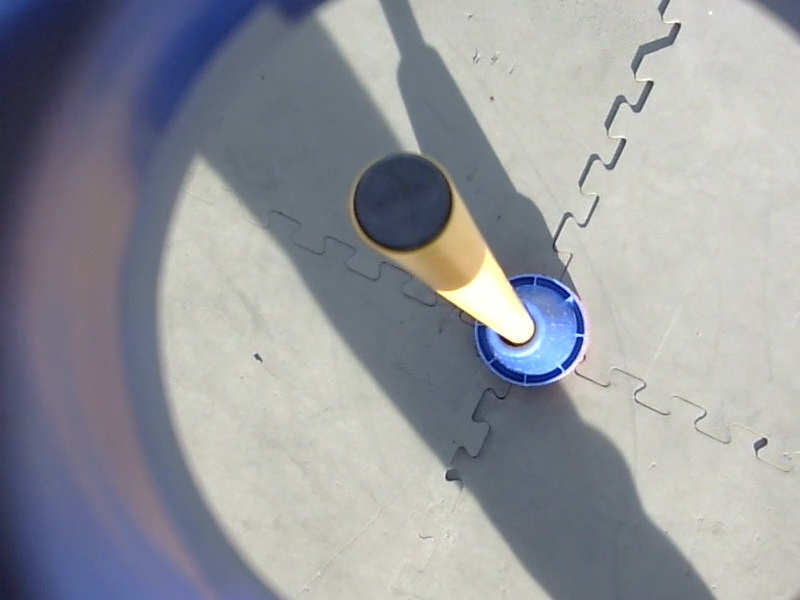tip: (345, 147, 461, 261)
